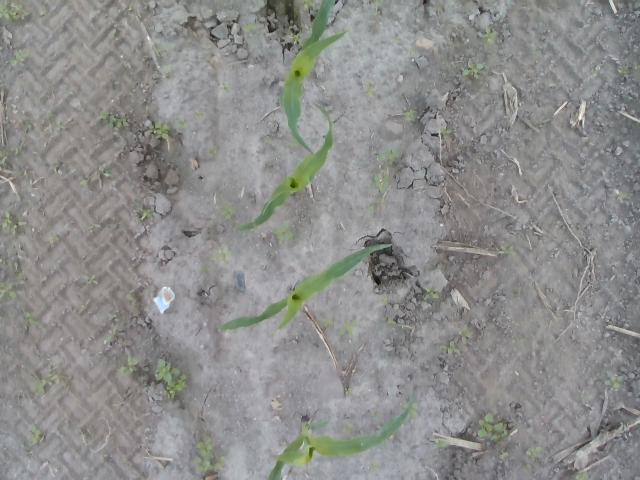Maize: (216, 242, 392, 332), (265, 393, 415, 480), (240, 101, 336, 230), (282, 0, 351, 152)
Weeds: (154, 358, 192, 402), (192, 436, 226, 474), (475, 412, 513, 442), (34, 364, 70, 395), (80, 162, 112, 188), (119, 354, 150, 379), (0, 0, 33, 23), (0, 272, 24, 300), (208, 244, 237, 266), (96, 111, 130, 128), (22, 423, 42, 450), (368, 174, 394, 194), (0, 50, 32, 66), (273, 221, 298, 241), (462, 62, 488, 81), (376, 146, 400, 166), (336, 320, 362, 338), (0, 211, 18, 237), (152, 40, 176, 58), (105, 311, 118, 342), (148, 121, 170, 139), (604, 374, 626, 392), (366, 198, 386, 217), (477, 30, 498, 48), (136, 208, 160, 223), (0, 146, 16, 168), (402, 107, 417, 129), (439, 340, 461, 354), (240, 15, 256, 34), (458, 324, 473, 344), (222, 202, 238, 220), (511, 336, 529, 352), (362, 78, 377, 96), (422, 287, 440, 302), (0, 255, 18, 270), (302, 0, 318, 16), (47, 160, 63, 176), (23, 311, 40, 326), (500, 243, 518, 257), (318, 314, 334, 328), (287, 33, 303, 47), (14, 142, 26, 160), (616, 64, 632, 77), (497, 448, 511, 462), (435, 438, 451, 450), (174, 116, 190, 128), (526, 446, 544, 456), (80, 274, 96, 285), (617, 190, 634, 200), (208, 146, 220, 160), (440, 128, 456, 138), (126, 288, 136, 304), (521, 462, 534, 474), (342, 421, 353, 435), (219, 82, 233, 93), (573, 471, 590, 480), (160, 64, 177, 72), (22, 120, 34, 131), (377, 296, 390, 306), (38, 4, 48, 17), (368, 462, 380, 472), (46, 110, 58, 120), (590, 65, 600, 76), (46, 234, 58, 243), (318, 298, 331, 306), (194, 110, 204, 120), (411, 403, 418, 417), (370, 0, 383, 7), (407, 48, 416, 58), (56, 120, 66, 129), (327, 8, 333, 23), (128, 2, 134, 16), (344, 386, 352, 396), (112, 30, 120, 40), (399, 324, 406, 332), (633, 63, 640, 70), (386, 320, 394, 326)
